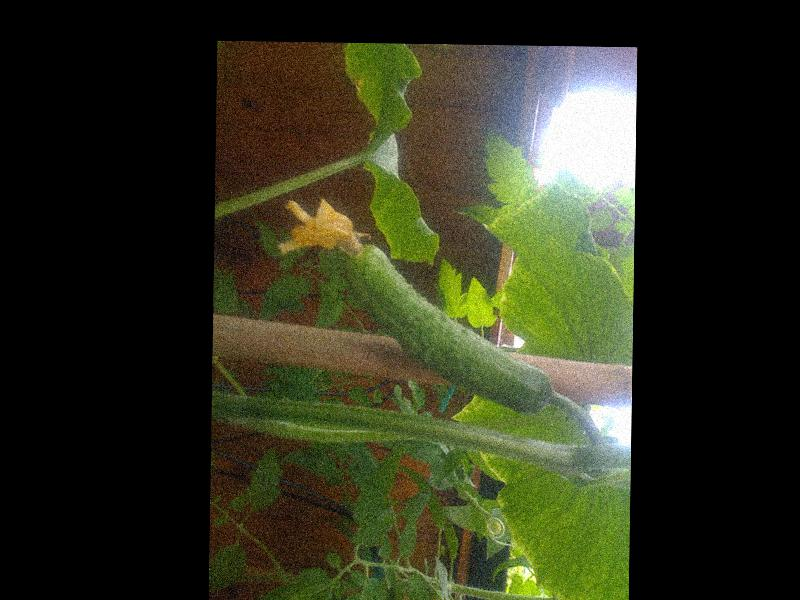Cucumber: (275, 195, 553, 413)
